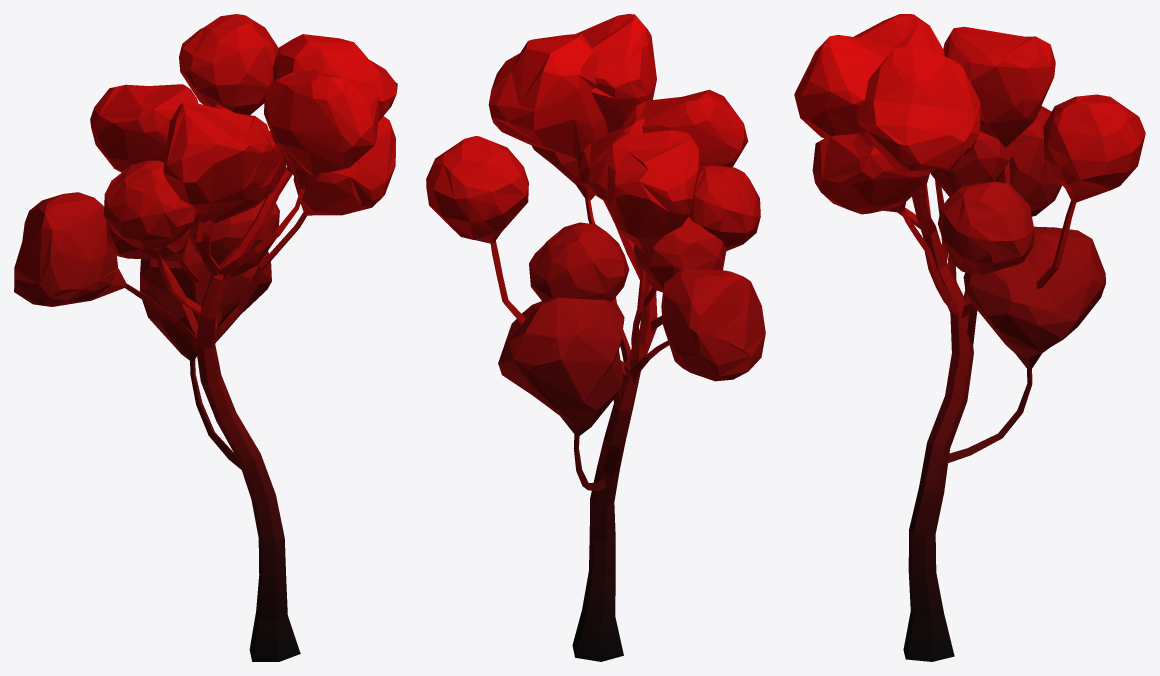
The model's file is TreeEuca05.fbx.
The picture shows the model from 3 angles, left to right: view 1: azimuth 30°, elevation 25°; view 2: azimuth 150°, elevation 25°; view 3: azimuth 270°, elevation 25°; orthographic projection. The views are drawn at different scales.
Parts seen in each view (by area): view 1: TreeEuca05_LOD0; view 2: TreeEuca05_LOD0; view 3: TreeEuca05_LOD0.
Part boxes in pixels (x1,y1,x2,y2): TreeEuca05_LOD0: (14,14,397,661); TreeEuca05_LOD0: (426,14,765,661); TreeEuca05_LOD0: (794,14,1145,661).
Size of what is drawn, in the model's own units: 447 by 817 by 417.
